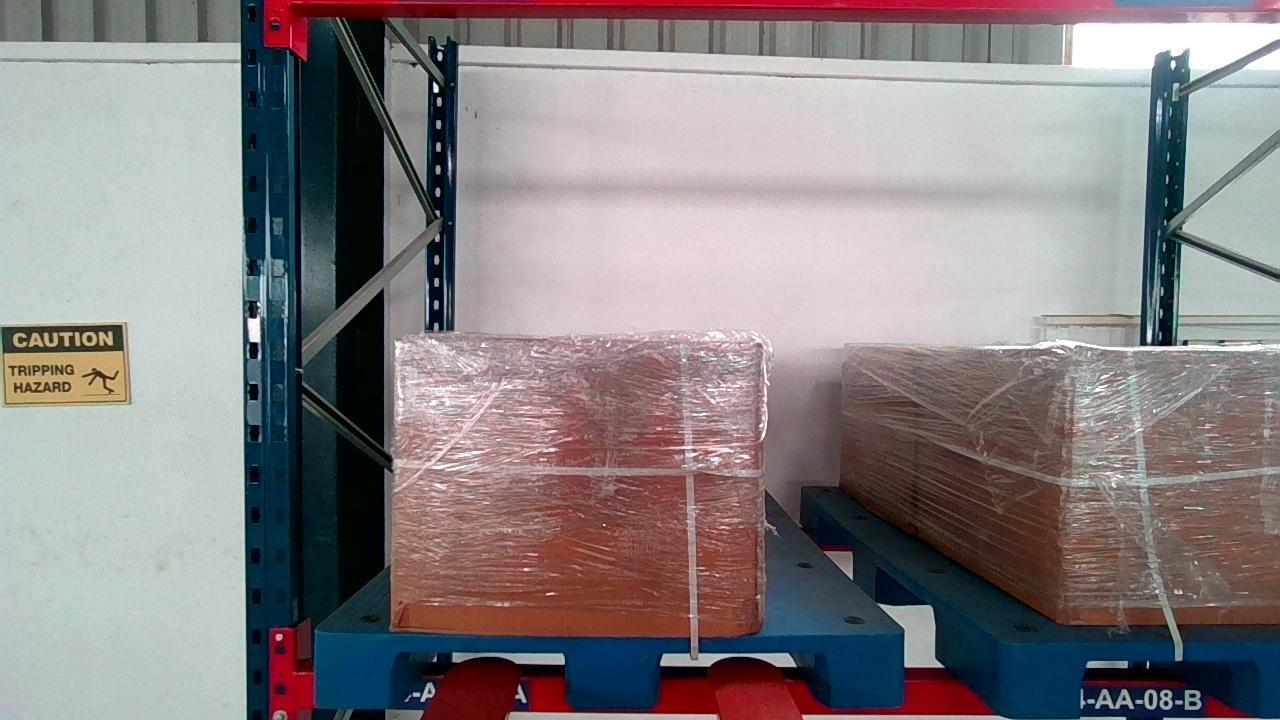small_pallet: (312, 630, 905, 707)
